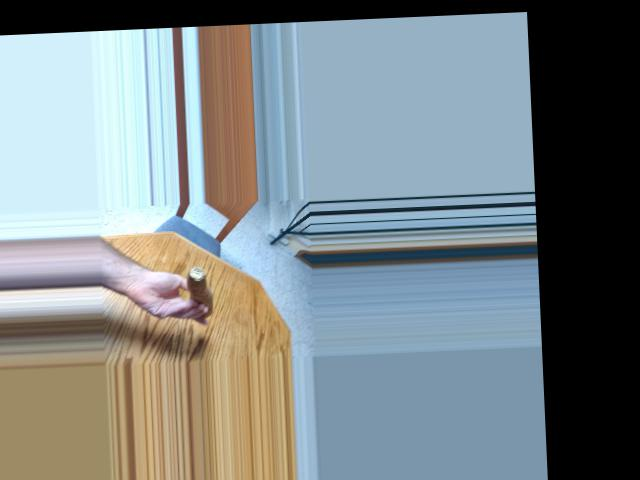sweet_potato: (173, 258, 216, 321)
